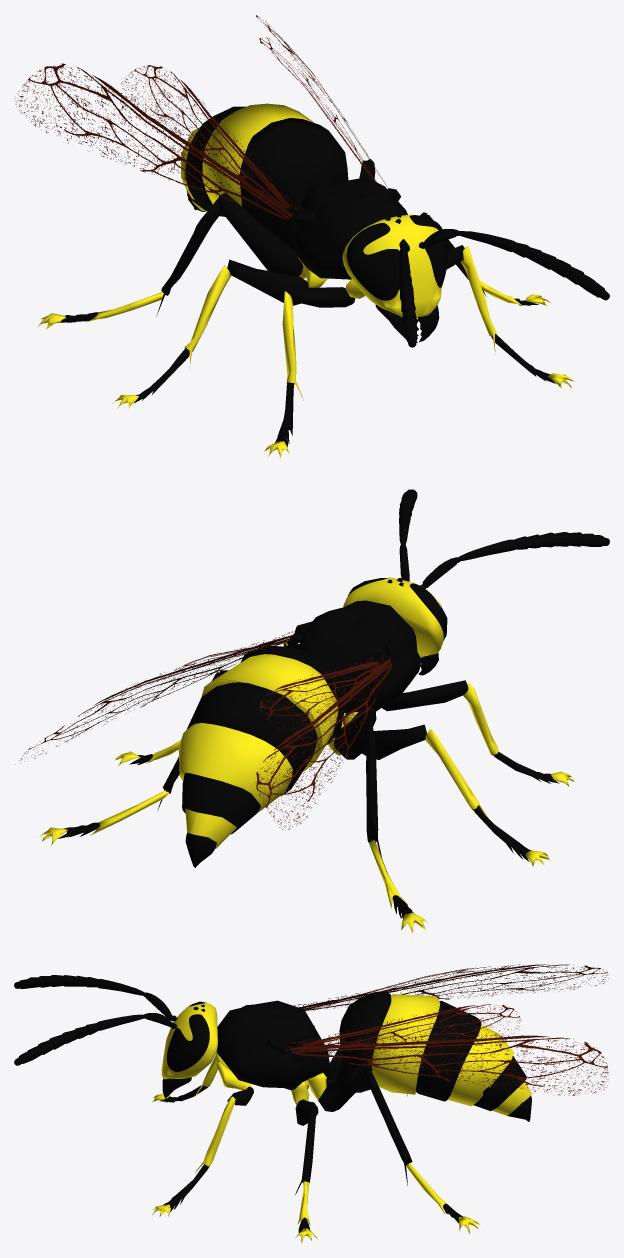
Rendered from wesp.FBX.
The picture shows the model from 3 angles, top to bottom: view 1: azimuth 30°, elevation 25°; view 2: azimuth 150°, elevation 25°; view 3: azimuth 270°, elevation 25°; orthographic projection. The views are drawn at different scales.
Parts seen in each view (by area): view 1: WASP11, WASPMAIN, WASP58, WASP22, WASP10, WASP18, WASP55, WASP78, WASP03, WASP72, WASP09, WASP66 (+6 smaller); view 2: WASPMAIN, WASP08, WASP09, WASP10, WASP58, WASP22, WASP07, WASP93, WASP23, WASP55, WASP11, WASP77 (+10 smaller); view 3: WASPMAIN, WASP93, WASP10, WASP09, WASP11, WASP08, WASP58, WASP880, WASP22, WASP18, WASP03, WASP23 (+10 smaller).
Part boxes in pixels (x1,y1,x2,y2): WASP11: [240, 118, 348, 250]; WASPMAIN: [294, 178, 407, 279]; WASP58: [14, 63, 297, 221]; WASP22: [342, 214, 441, 317]; WASP10: [202, 103, 313, 206]; WASP18: [346, 215, 448, 300]; WASP55: [121, 65, 293, 208]; WASP78: [218, 192, 303, 276]; WASP03: [457, 231, 609, 300]; WASP72: [227, 259, 308, 305]; WASP09: [185, 106, 245, 216]; WASP66: [156, 196, 221, 316]; WASPMAIN: [298, 600, 421, 714]; WASP08: [178, 723, 292, 812]; WASP09: [187, 682, 317, 795]; WASP10: [201, 654, 338, 771]; WASP58: [255, 652, 394, 829]; WASP22: [343, 577, 443, 657]; WASP07: [182, 773, 260, 834]; WASP93: [15, 630, 297, 764]; WASP23: [458, 532, 609, 561]; WASP55: [259, 657, 380, 732]; WASP11: [240, 645, 346, 742]; WASP77: [382, 680, 468, 711]; WASPMAIN: [216, 1000, 330, 1090]; WASP93: [285, 1034, 608, 1095]; WASP10: [372, 994, 439, 1094]; WASP09: [415, 1000, 481, 1101]; WASP11: [326, 991, 391, 1092]; WASP08: [447, 1024, 514, 1106]; WASP58: [294, 964, 608, 1010]; WASP880: [301, 1004, 521, 1046]; WASP22: [161, 1003, 217, 1079]; WASP18: [167, 1001, 209, 1071]; WASP03: [14, 1014, 145, 1065]; WASP23: [14, 975, 144, 995].
Size of the model in its own units: 4128 by 1929 by 6011.
Materials: 7 (2 with a texture image).
